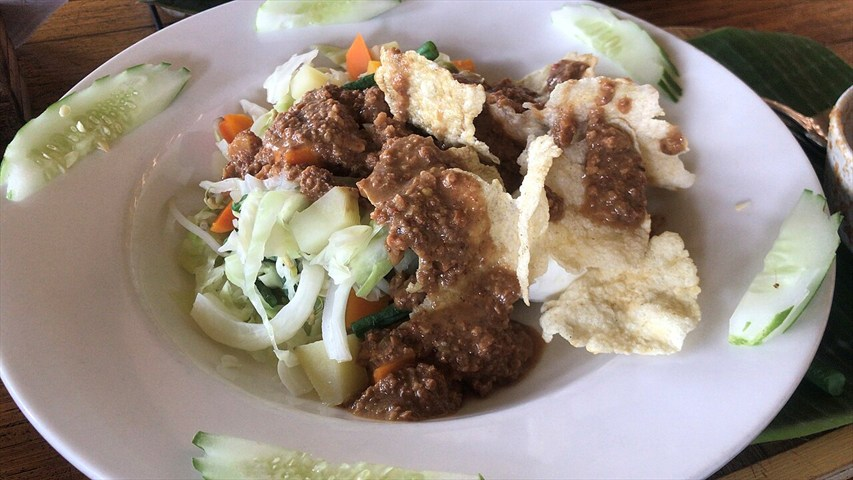Gado-Gado: (189, 51, 835, 421)
